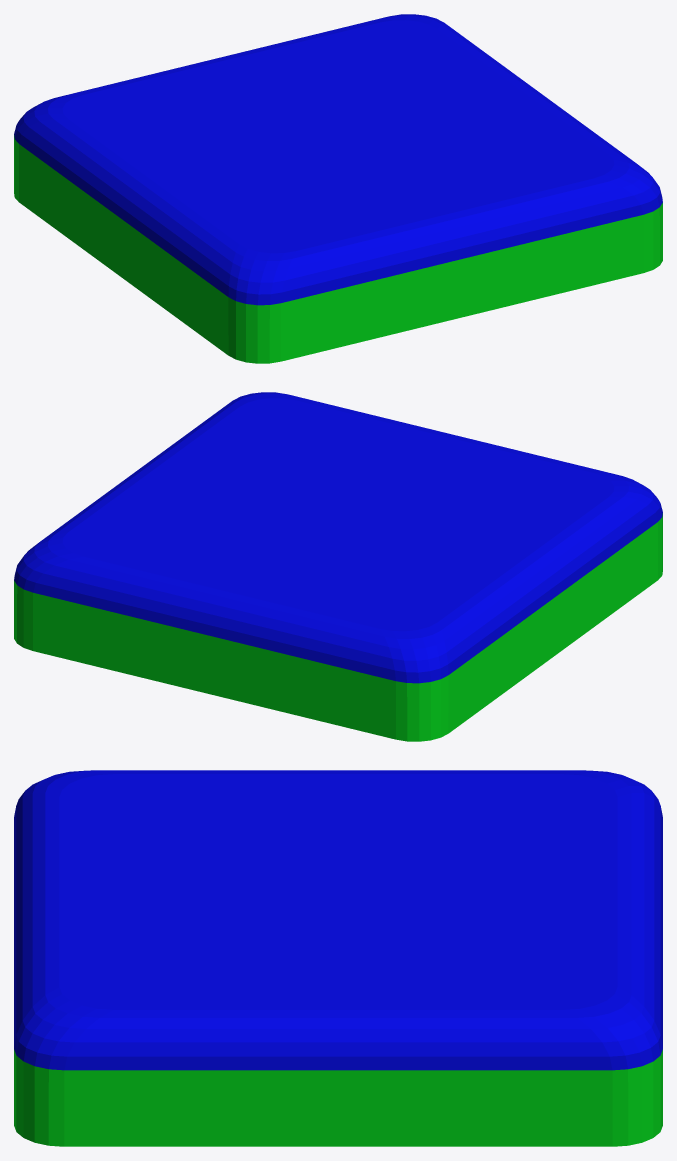
The picture shows the model from 3 angles, top to bottom: view 1: azimuth 30°, elevation 25°; view 2: azimuth 150°, elevation 25°; view 3: azimuth 270°, elevation 25°; orthographic projection. The views are drawn at different scales.
Visible parts, largest first — view 1: plank8; view 2: plank8; view 3: plank8.
Part boxes in pixels (x1,y1,x2,y2): plank8: (14,14,662,363); plank8: (14,392,662,741); plank8: (14,770,662,1146).
Bounding box in the file's own units: 500 × 100 × 500.
